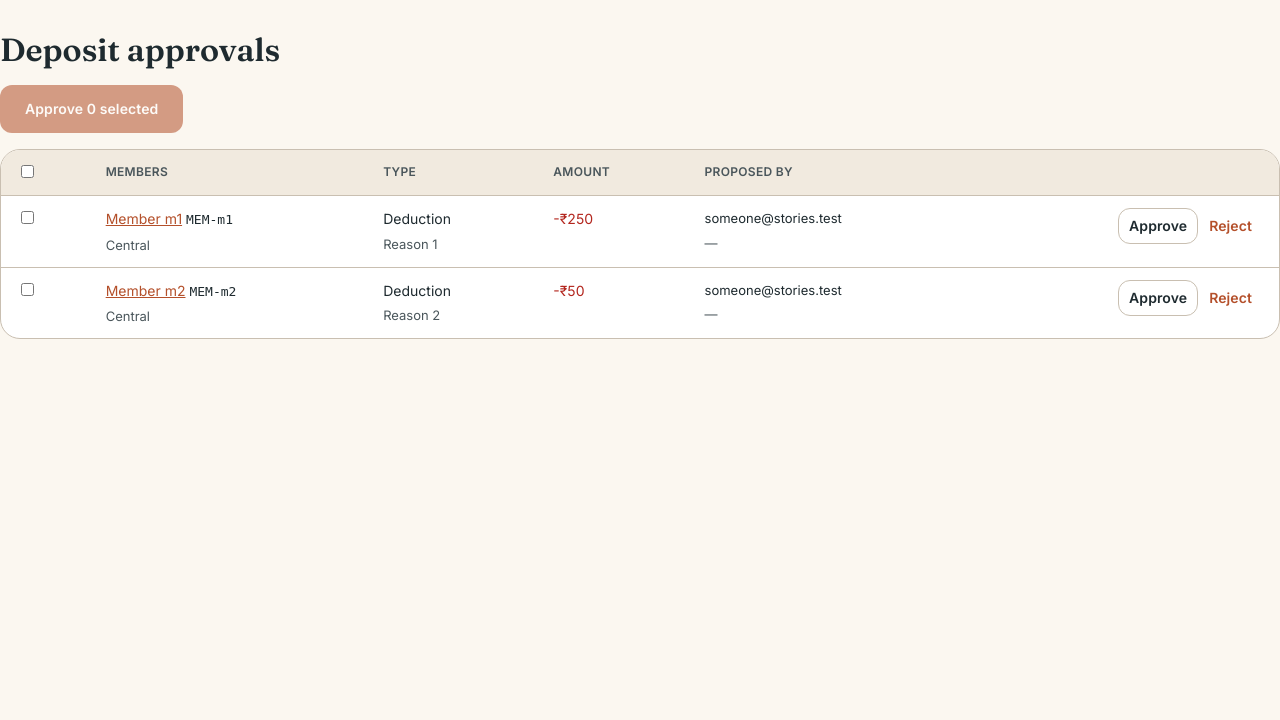
Scenario: deciding one adjustment › approves without a typed reason: the note is sent empty and the row goes at once
Expected: the heading "Deposit approvals" is shown, [0,30,280,69]
Click the button "Approve" in the row of "Member m1" at (1158, 226), box [1118,208,1198,244]
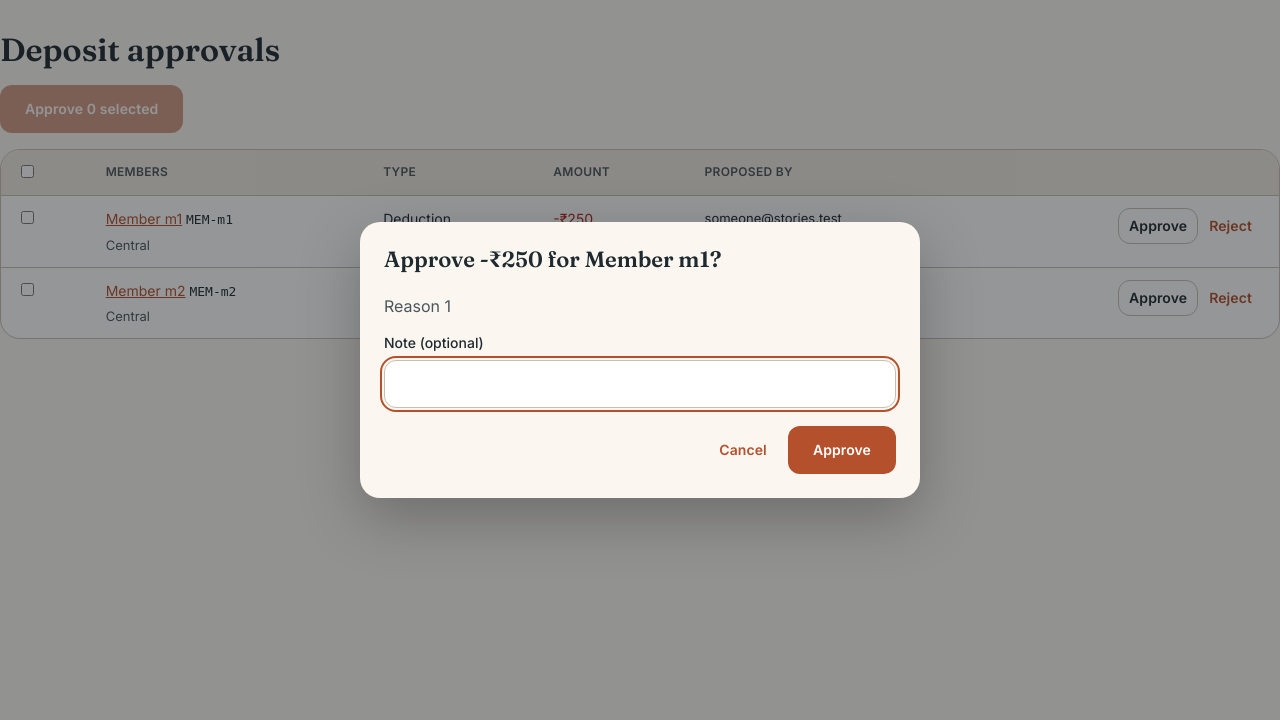
Click the button "Approve" at (842, 450), box [788,426,896,474]
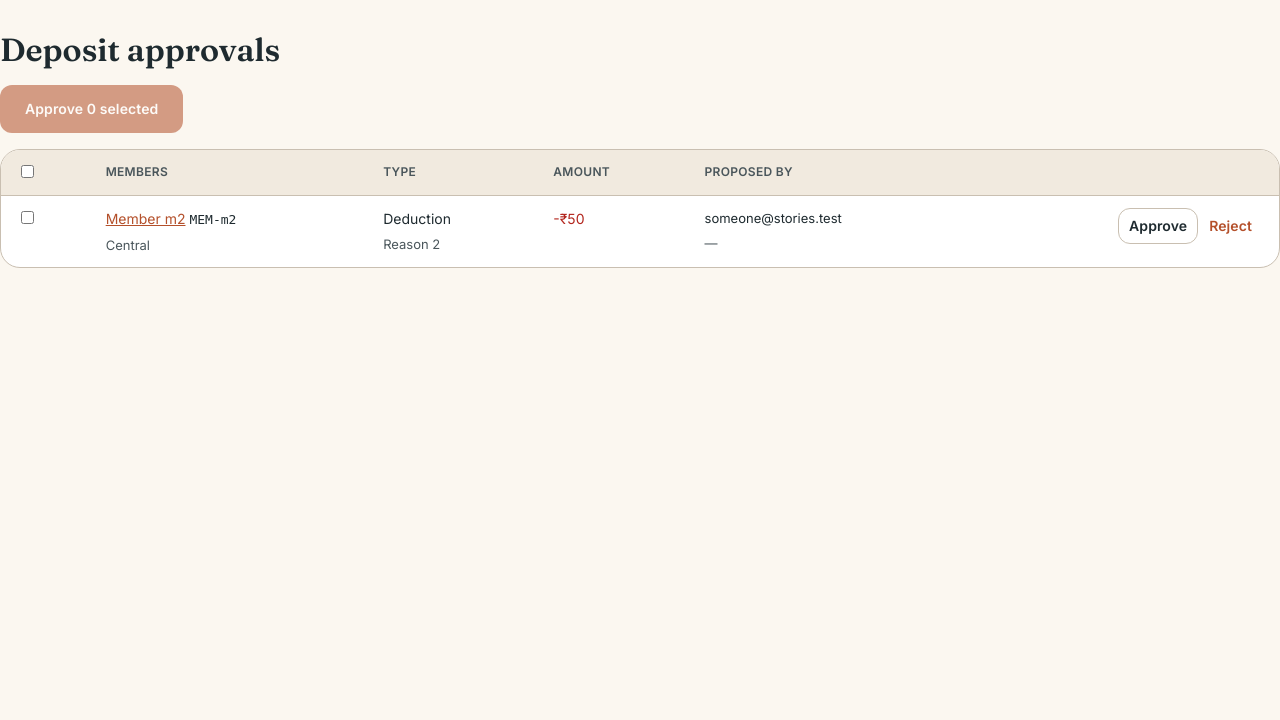
Expected: the link "Member m2" is shown, [106,210,186,227]
Now the link "Member m1" is gone
Now the dialog is gone
